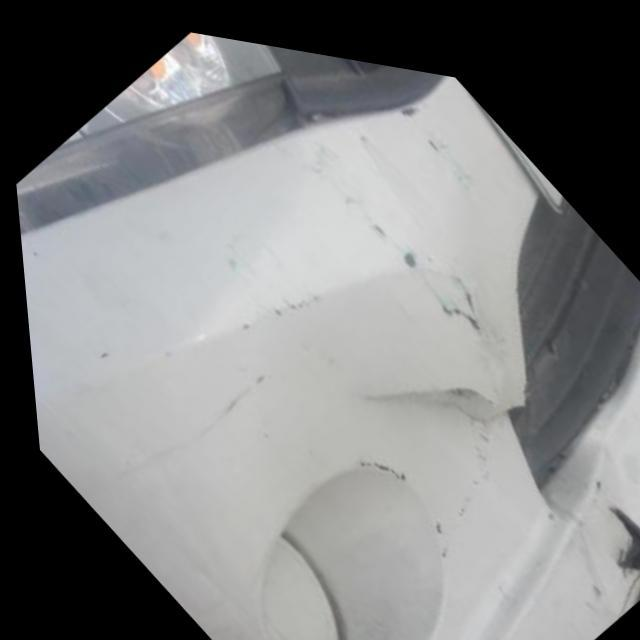crack: (381, 213, 489, 324), (386, 79, 485, 183), (571, 479, 640, 573)
